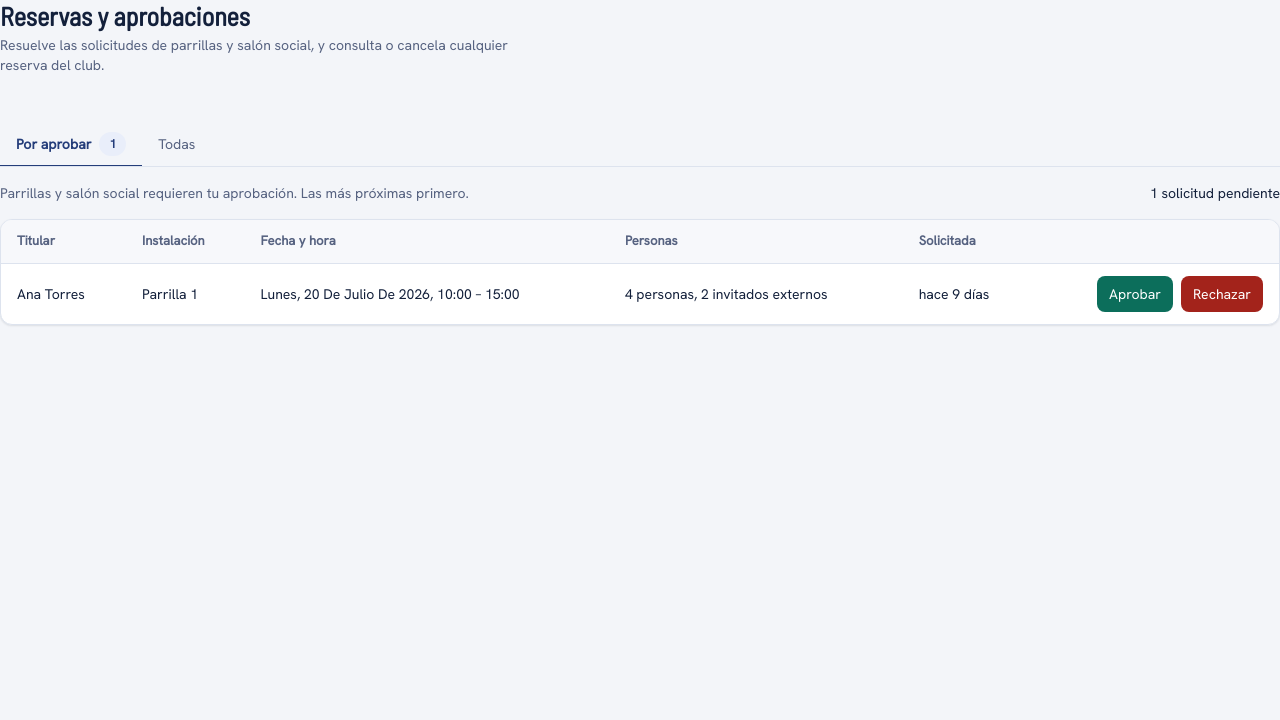
Test: ReservationsAdminPage › por aprobar › 404 en el detalle ofrece actualizar y cierra el panel
Check: the table is shown, box [1, 220, 1279, 324]
Click the row named "Ver detalle de la reserva de Ana Torres, Parrilla 1". click: (640, 294)
box: [1, 264, 1279, 324]
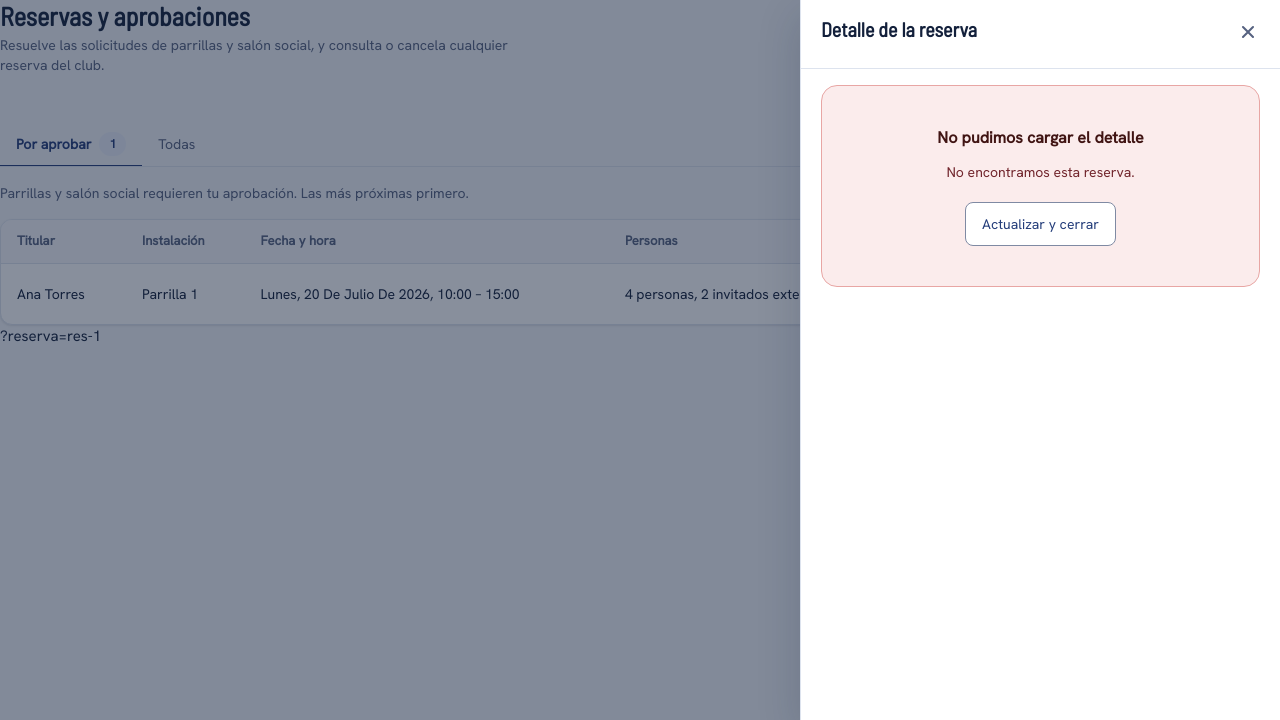
Click the button "Actualizar y cerrar". click: (1040, 224)
box: [965, 202, 1116, 246]
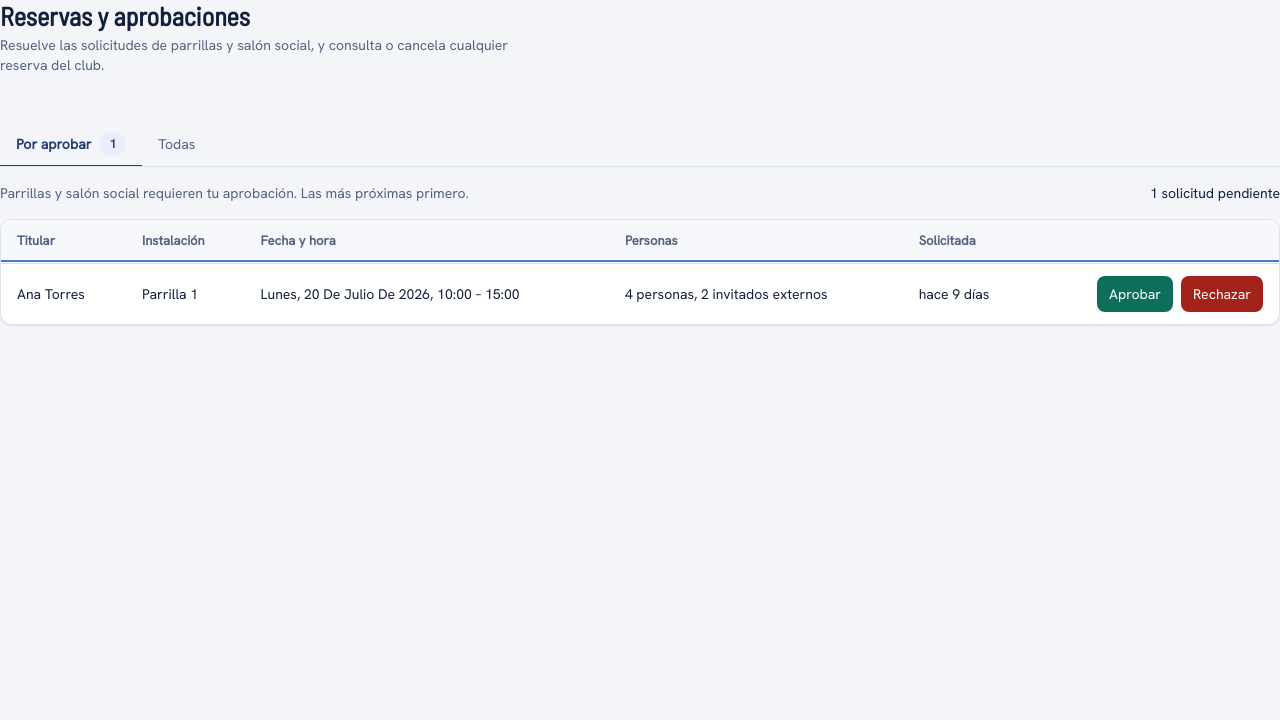
Check: the dialog is gone
